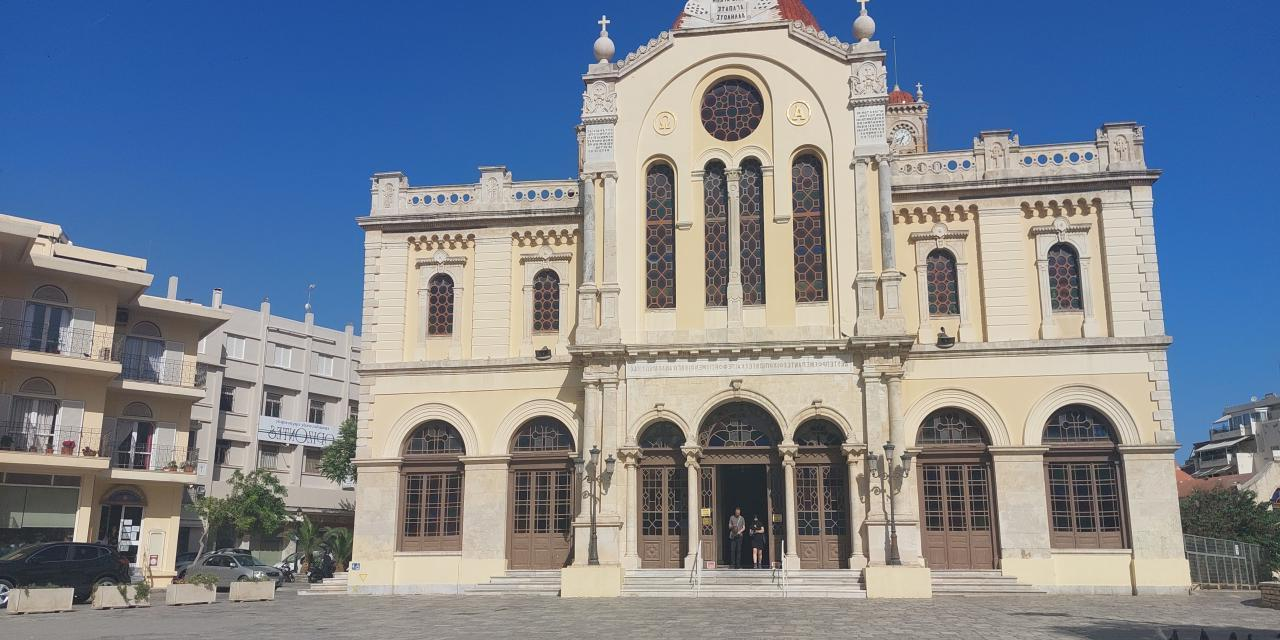Agios Minas: (342, 1, 1197, 602)
